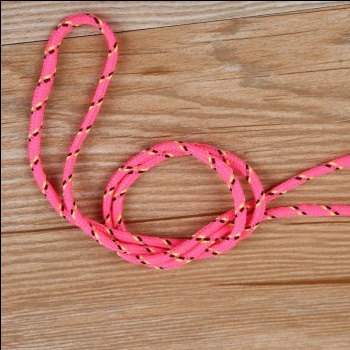9/可回收垃圾/绳子: (27, 12, 350, 271)
